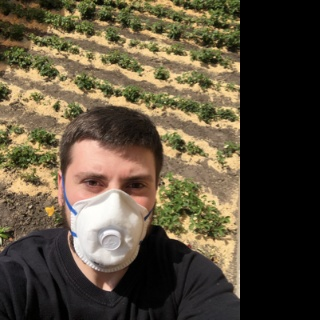with_mask: (68, 155, 156, 272)
